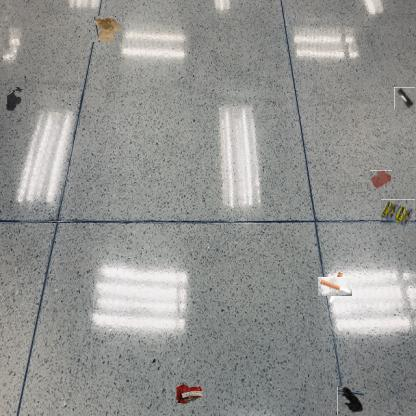dirty: (381, 199, 415, 228), (336, 387, 365, 416), (92, 16, 122, 42), (176, 382, 206, 406), (322, 274, 349, 300), (394, 87, 415, 110)
liquid: (5, 86, 22, 112), (370, 170, 392, 189)
